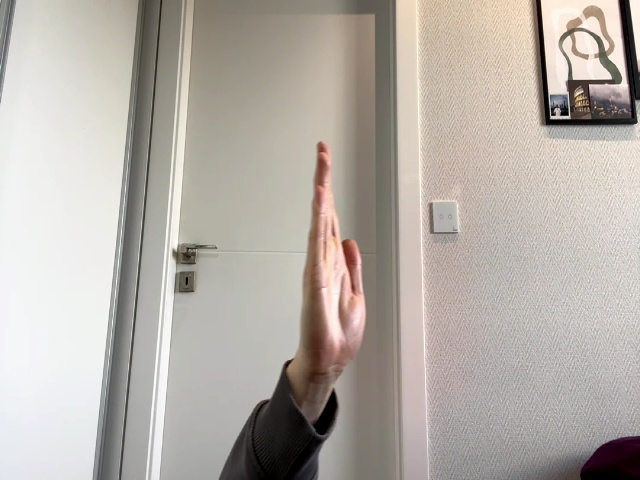SZ: (301, 141, 365, 382)
